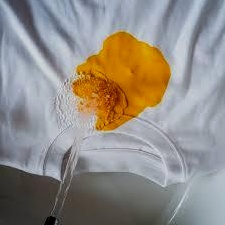mustard: (79, 33, 171, 128), (91, 72, 127, 116), (70, 75, 91, 99)
